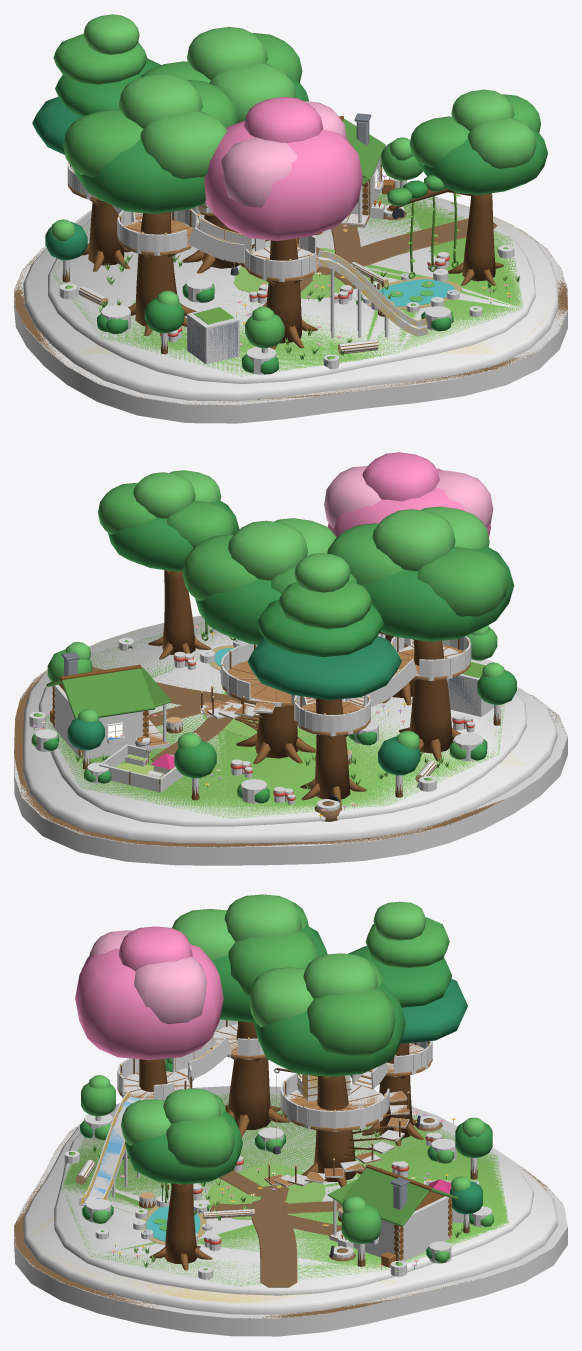
Rendered from bosque.glb.
The picture shows the model from 3 angles, top to bottom: view 1: azimuth 30°, elevation 25°; view 2: azimuth 150°, elevation 25°; view 3: azimuth 270°, elevation 25°; orthographic projection. The views are drawn at different scales.
Parts seen in each view (by area): view 1: col-terreno, terreno, copa-4, copa-3, copa-11, copa-2, copa-1, construcoes, vegetacao, tronco-3, tronco-5, col-pedra-de-agarrar-1 (+7 smaller); view 2: col-terreno, terreno, copa-3, copa-2, copa-1, construcoes, copa-11, copa-4, vegetacao, tronco-3, tronco-2, tronco-5 (+10 smaller); view 3: col-terreno, terreno, copa-4, copa-1, construcoes, copa-3, copa-2, copa-11, vegetacao, tronco-3, col-cabana-1, tronco-1 (+10 smaller).
Boxes of the visible parts, <box> form: col-terreno: <box>14,190,567,423</box>; terreno: <box>14,191,567,405</box>; copa-4: <box>204,97,362,240</box>; copa-3: <box>63,73,238,215</box>; copa-11: <box>387,89,547,205</box>; copa-2: <box>32,14,161,154</box>; copa-1: <box>141,27,308,122</box>; construcoes: <box>68,113,427,363</box>; vegetacao: <box>60,175,519,374</box>; tronco-3: <box>135,213,177,326</box>; tronco-5: <box>462,193,495,281</box>; col-pedra-de-agarrar-1: <box>187,306,239,364</box>; col-terreno: <box>14,615,567,865</box>; terreno: <box>14,616,567,847</box>; copa-3: <box>327,506,514,642</box>; copa-2: <box>247,553,401,700</box>; copa-1: <box>182,518,357,644</box>; construcoes: <box>46,632,485,791</box>; copa-11: <box>98,470,239,572</box>; copa-4: <box>324,452,493,537</box>; vegetacao: <box>31,626,500,821</box>; tronco-3: <box>409,639,452,753</box>; tronco-2: <box>315,698,350,799</box>; tronco-5: <box>162,570,195,654</box>; col-terreno: <box>14,1086,567,1336</box>; terreno: <box>14,1088,561,1318</box>; copa-4: <box>75,926,223,1060</box>; copa-1: <box>249,953,405,1078</box>; construcoes: <box>80,1020,477,1267</box>; copa-3: <box>172,894,327,1024</box>; copa-2: <box>348,901,467,1043</box>; copa-11: <box>121,1088,242,1185</box>; vegetacao: <box>69,1105,493,1279</box>; tronco-3: <box>227,1021,270,1129</box>; col-cabana-1: <box>353,1196,451,1261</box>; tronco-1: <box>314,1075,356,1181</box>.
Size of the model in its own units: 28.91 by 15.44 by 29.51.
